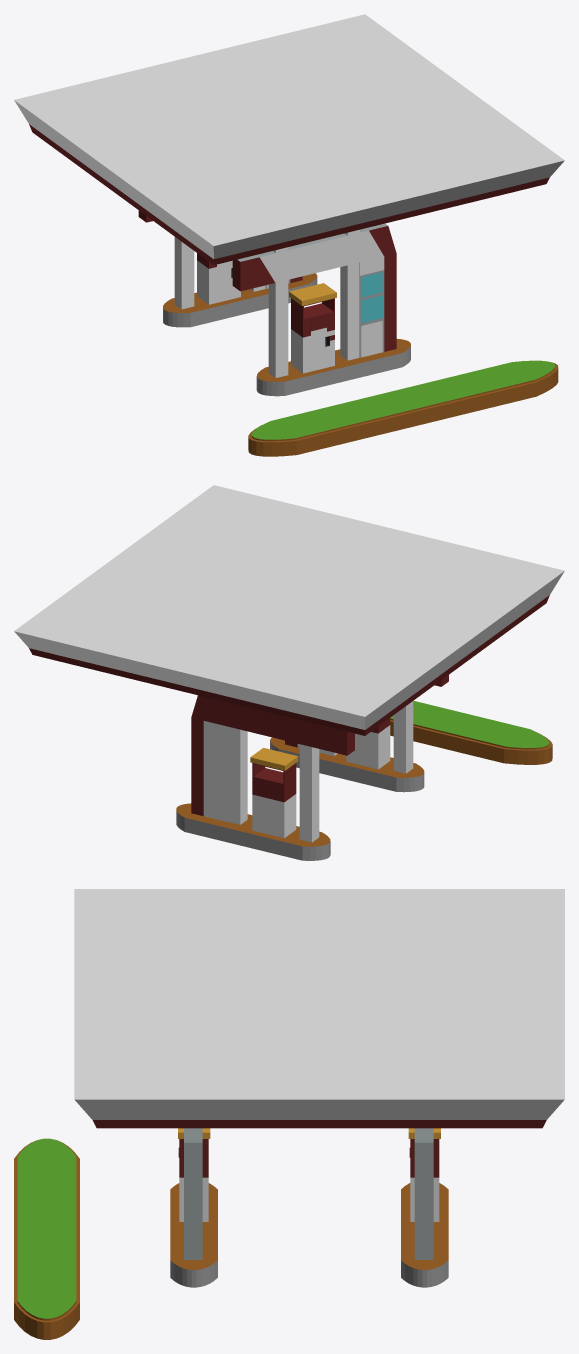
The model's file is Gasolinera.fbx.
3 renders of one model, top to bottom at view 1: azimuth 30°, elevation 25°; view 2: azimuth 150°, elevation 25°; view 3: azimuth 270°, elevation 25°, orthographic. The views are drawn at different scales.
Visible parts, largest first — view 1: Cube_4; view 2: Cube_4; view 3: Cube_4.
Part boxes in pixels (box(x1,y1,x2,y2)): Cube_4: box(14, 14, 564, 456); Cube_4: box(14, 485, 564, 860); Cube_4: box(14, 889, 564, 1339).
Size of the model in its own units: 316 by 177 by 350.
